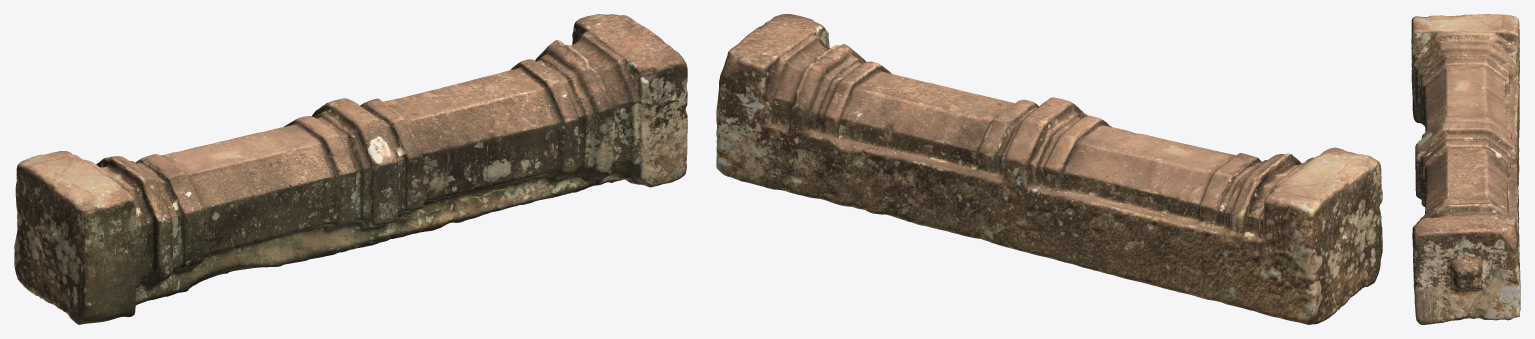
File: 46_MysonSanctuaryD_tru_final.glb
The picture shows the model from 3 angles, left to right: view 1: azimuth 30°, elevation 25°; view 2: azimuth 150°, elevation 25°; view 3: azimuth 270°, elevation 25°; orthographic projection. The views are drawn at different scales.
Bounding box in the file's own units: 1.88 × 0.3706 × 0.3767.
1 material, 1 textured.
